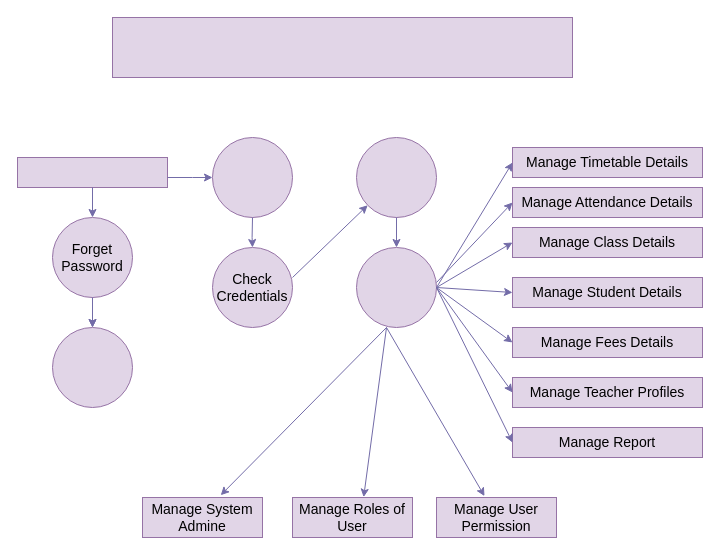
Image size: 720x555. Some labels were removed from this diagram. Each missing label, with the centre of its shape:
Admin: (92,172)
Check Roles of Access: (396,177)
Login to System: (252,177)
Manage Modules: (396,287)
Send Email to User: (92,367)
Student Information System: (342,47)
